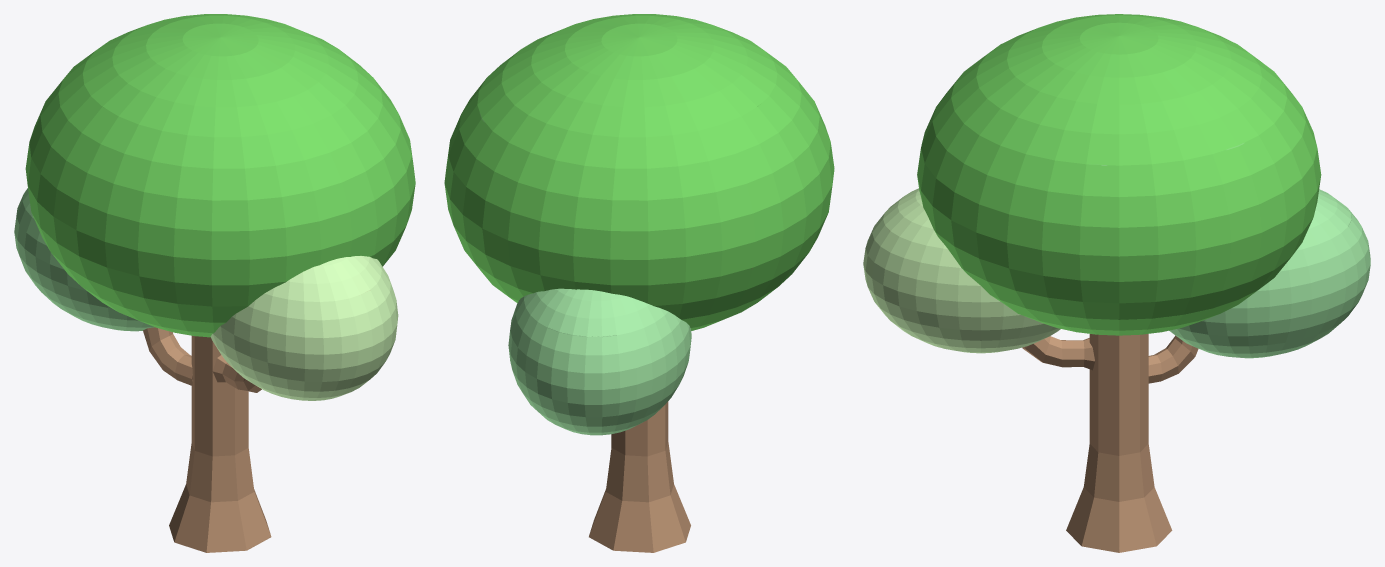
The model's file is TREE #1.fbx.
The picture shows the model from 3 angles, left to right: view 1: azimuth 30°, elevation 25°; view 2: azimuth 150°, elevation 25°; view 3: azimuth 270°, elevation 25°; orthographic projection.
Parts seen in each view (by area): view 1: one; view 2: one; view 3: one.
Part boxes in pixels (bbox=[...]): one: bbox=[14, 14, 415, 552]; one: bbox=[444, 14, 834, 552]; one: bbox=[863, 14, 1370, 552].
Bounding box in the file's own units: 799 × 1128 × 1049.
1 material, 1 textured.
